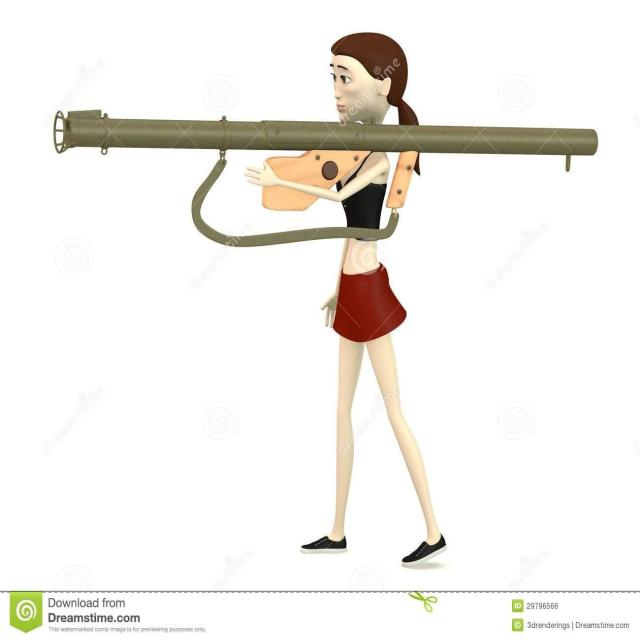weapon: (42, 100, 612, 174)
